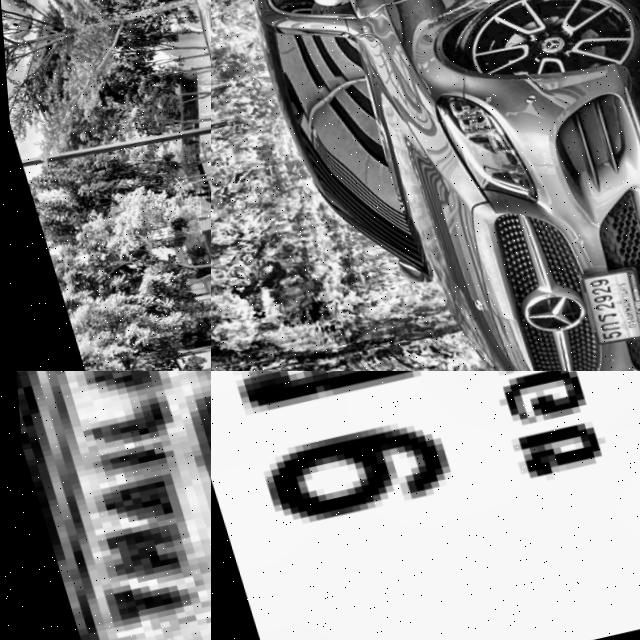license-plate: (211, 371, 640, 640), (0, 371, 211, 640), (564, 259, 640, 347)
